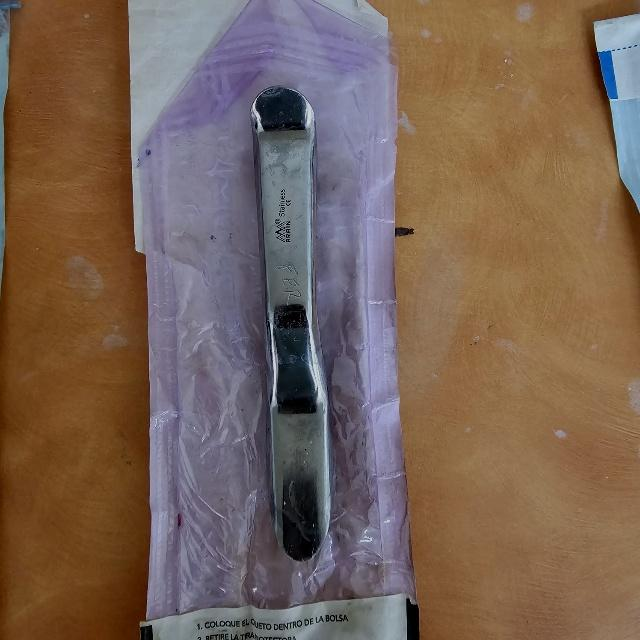separador: (252, 87, 331, 563)
